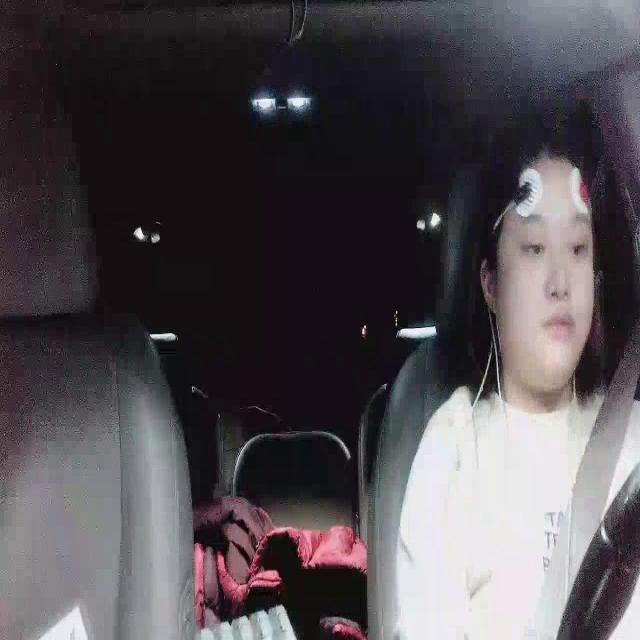Attentive: (475, 123, 606, 392)
